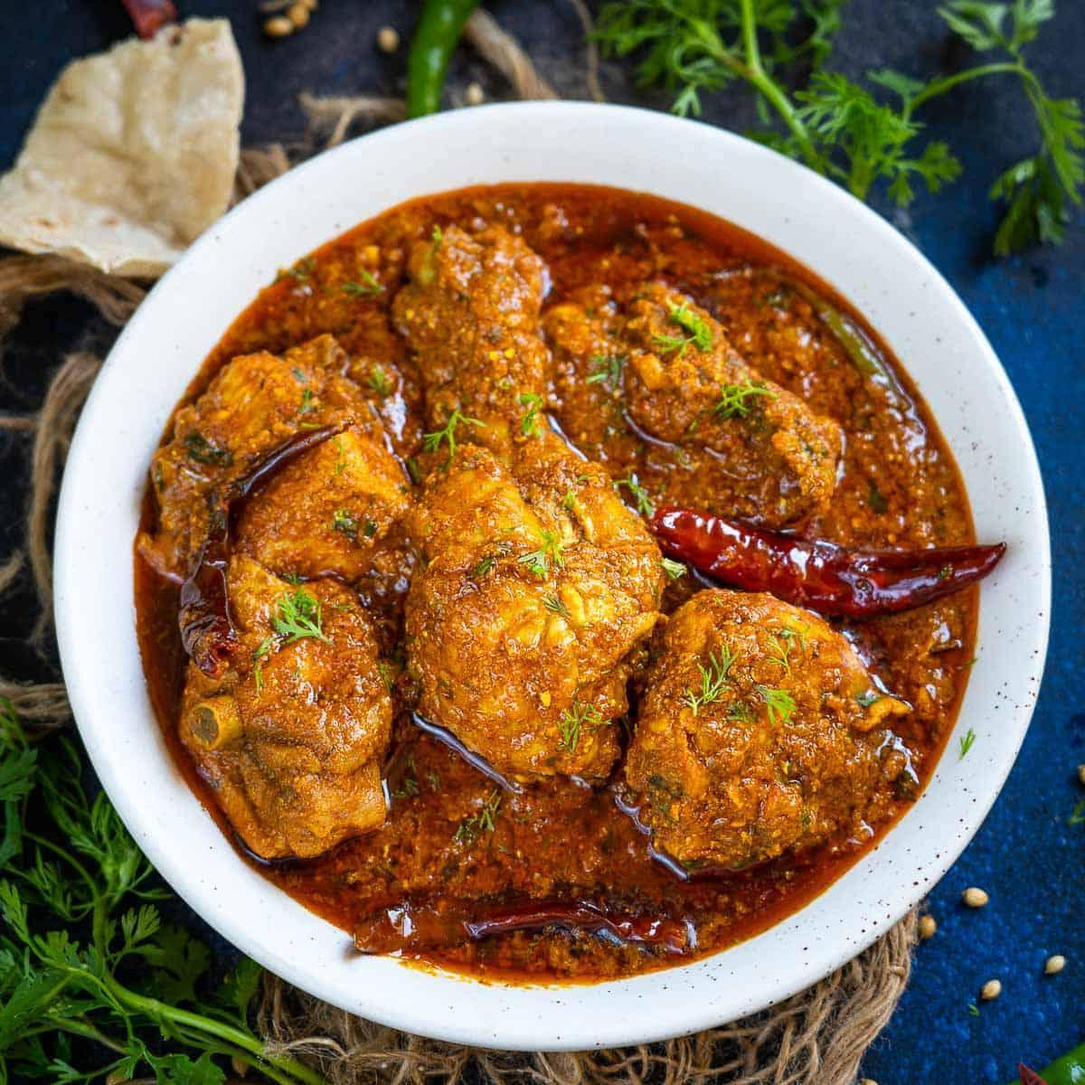chicken: (151, 219, 955, 952)
